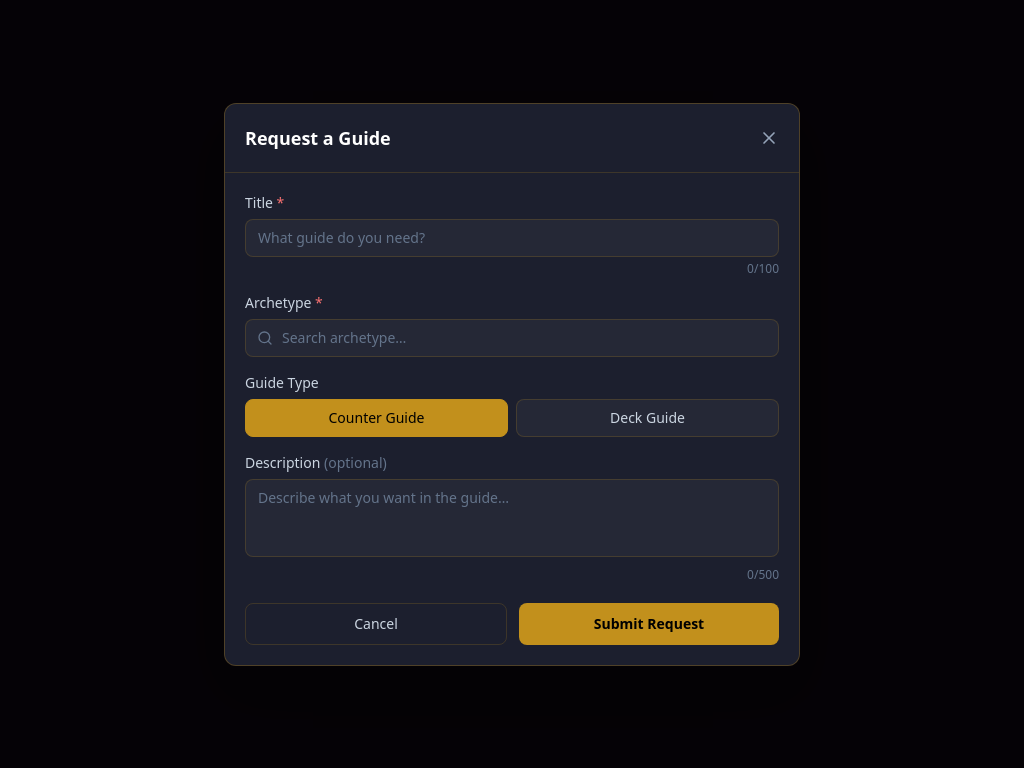
Test: CreateGuideRequestModal › should show error when submitting with empty title
Click the button "Submit Request": coordinates (649, 624) top-left (519, 602), bottom-right (779, 644)
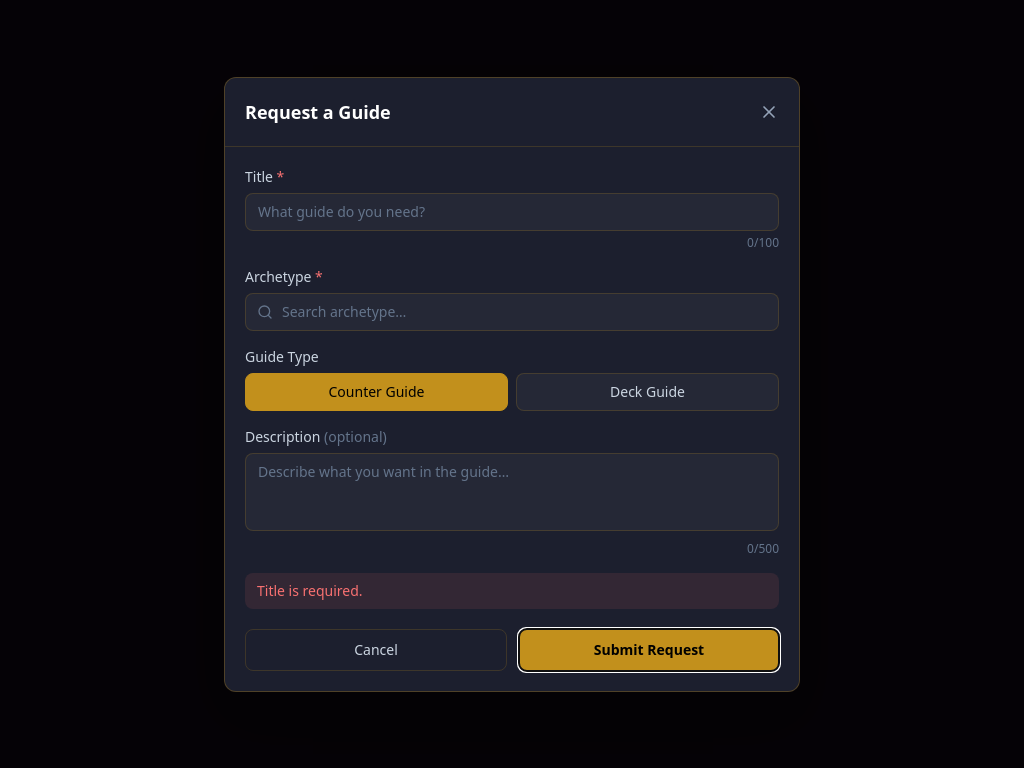
Check: the text "Title is required." is shown, box top-left (245, 572), bottom-right (779, 608)
